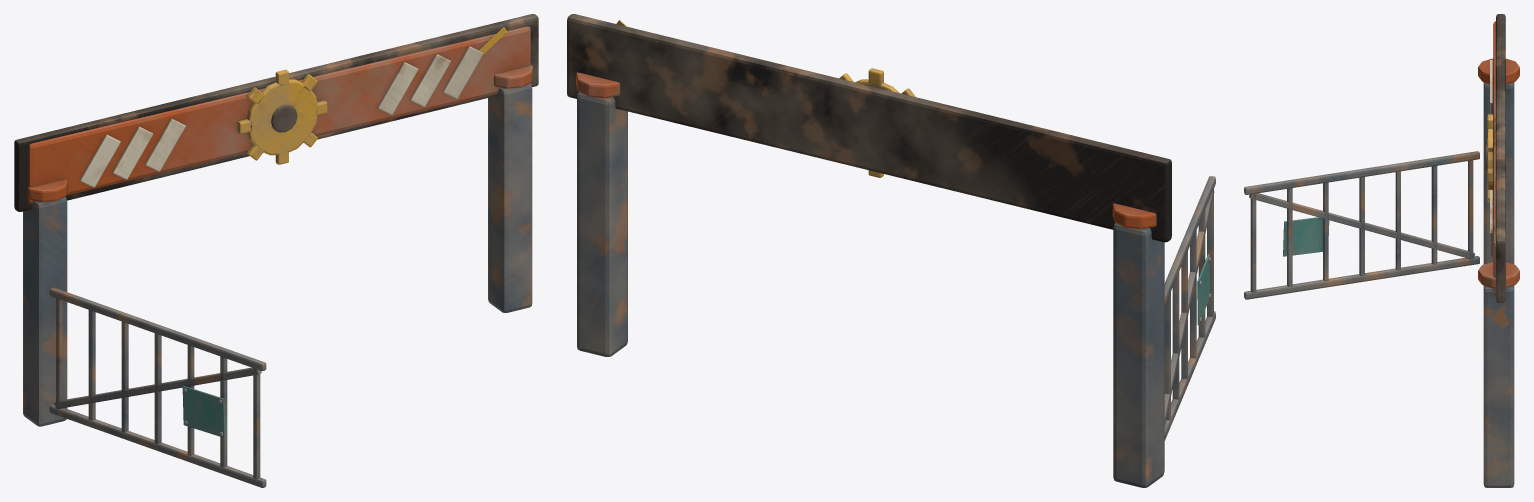
Rendered from gate.glb.
The picture shows the model from 3 angles, left to right: view 1: azimuth 30°, elevation 25°; view 2: azimuth 150°, elevation 25°; view 3: azimuth 270°, elevation 25°; orthographic projection. The views are drawn at different scales.
Parts seen in each view (by area): view 1: Gate_Mesh, Leaf_Mesh; view 2: Gate_Mesh, Leaf_Mesh; view 3: Gate_Mesh, Leaf_Mesh.
Boxes of the visible parts, bbox=[...] form: Gate_Mesh: bbox=[14, 14, 538, 426]; Leaf_Mesh: bbox=[49, 287, 266, 487]; Gate_Mesh: bbox=[567, 14, 1171, 487]; Leaf_Mesh: bbox=[1164, 176, 1215, 440]; Gate_Mesh: bbox=[1478, 14, 1519, 487]; Leaf_Mesh: bbox=[1244, 151, 1479, 299].
Bounding box in the file's own units: 5.6 × 3.02 × 2.86.
Materials: 2 (2 with a texture image).
